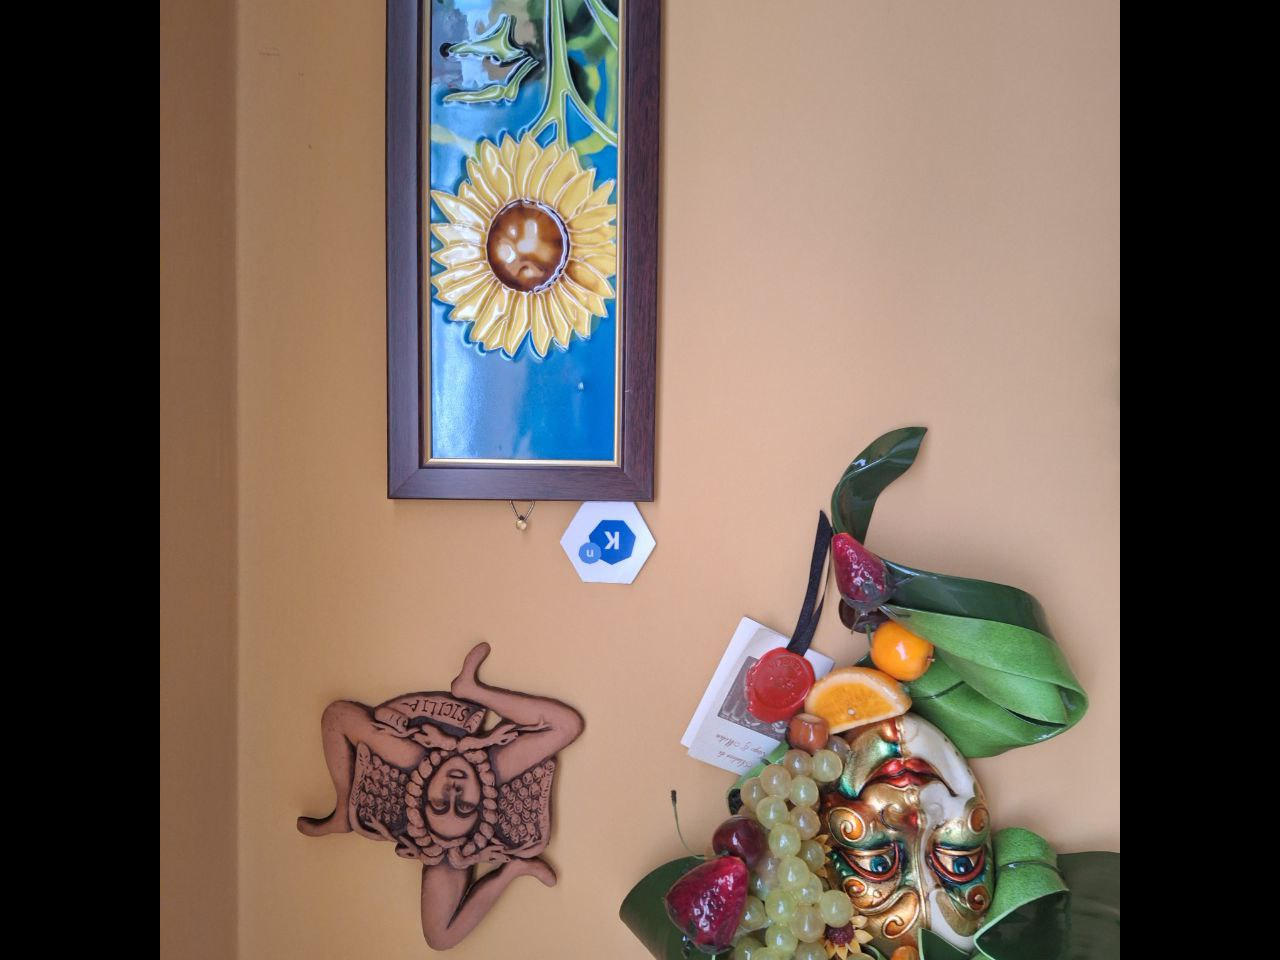knative: (580, 517, 636, 569)
